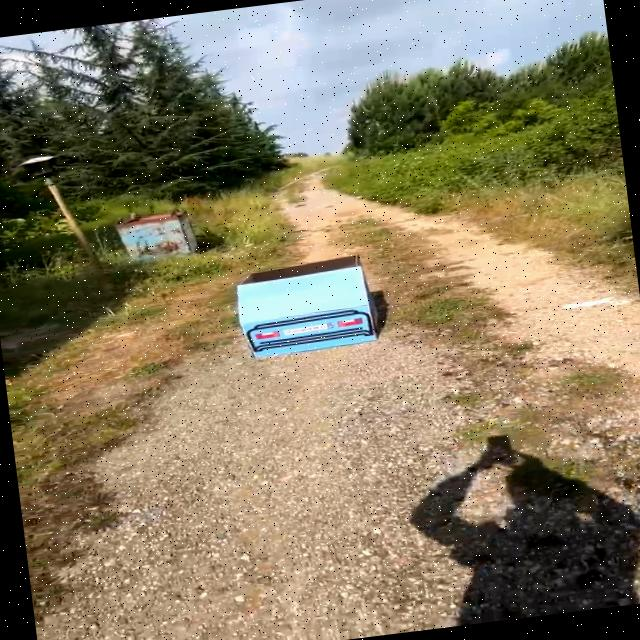blue_car: (219, 242, 399, 364)
